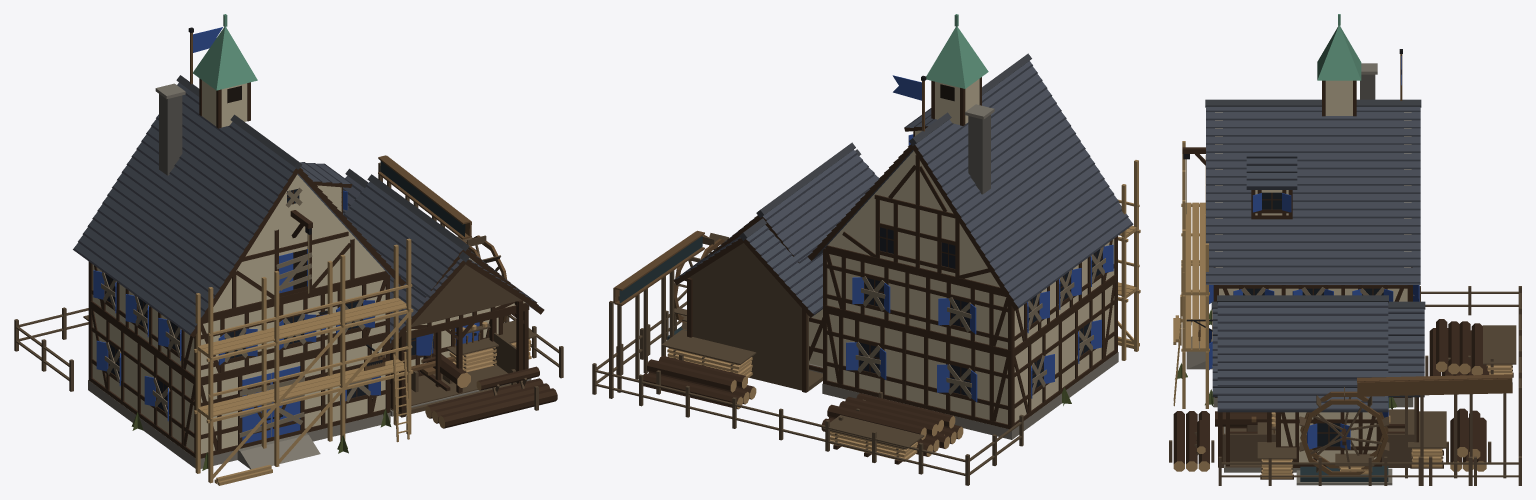
Rendered from tischler.glb.
The picture shows the model from 3 angles, left to right: view 1: azimuth 30°, elevation 25°; view 2: azimuth 150°, elevation 25°; view 3: azimuth 270°, elevation 25°; orthographic projection. The views are drawn at different scales.
Parts seen in each view (by area): view 1: Haus, Stufe3, Geruest, Stufe2, Stufe1, Leerstand, Fahne; view 2: Haus, Stufe3, Stufe2, Stufe1, Leerstand, Geruest, Fahne; view 3: Haus, Stufe2, Stufe3, Stufe1, Geruest, Leerstand.
Part boxes in pixels (x1,y1,x2,y2): Haus: (73,75,405,469); Stufe3: (83,14,557,428); Geruest: (194,238,413,485); Stufe2: (300,162,544,416); Stufe1: (14,307,563,395); Leerstand: (101,187,391,470); Fahne: (188,27,222,84); Haus: (807,53,1133,439); Stufe3: (597,14,988,464); Stufe2: (596,108,944,456); Stufe1: (592,301,1023,485); Leerstand: (855,246,1105,405); Geruest: (1118,160,1140,360); Fahne: (892,75,926,131); Haus: (1182,63,1421,407); Stufe2: (1217,153,1517,485); Stufe3: (1169,14,1521,485); Stufe1: (1194,286,1521,485); Geruest: (1173,141,1209,408); Leerstand: (1175,287,1414,409).
Size of the model in its own units: 15.81 by 14.93 by 13.64.
